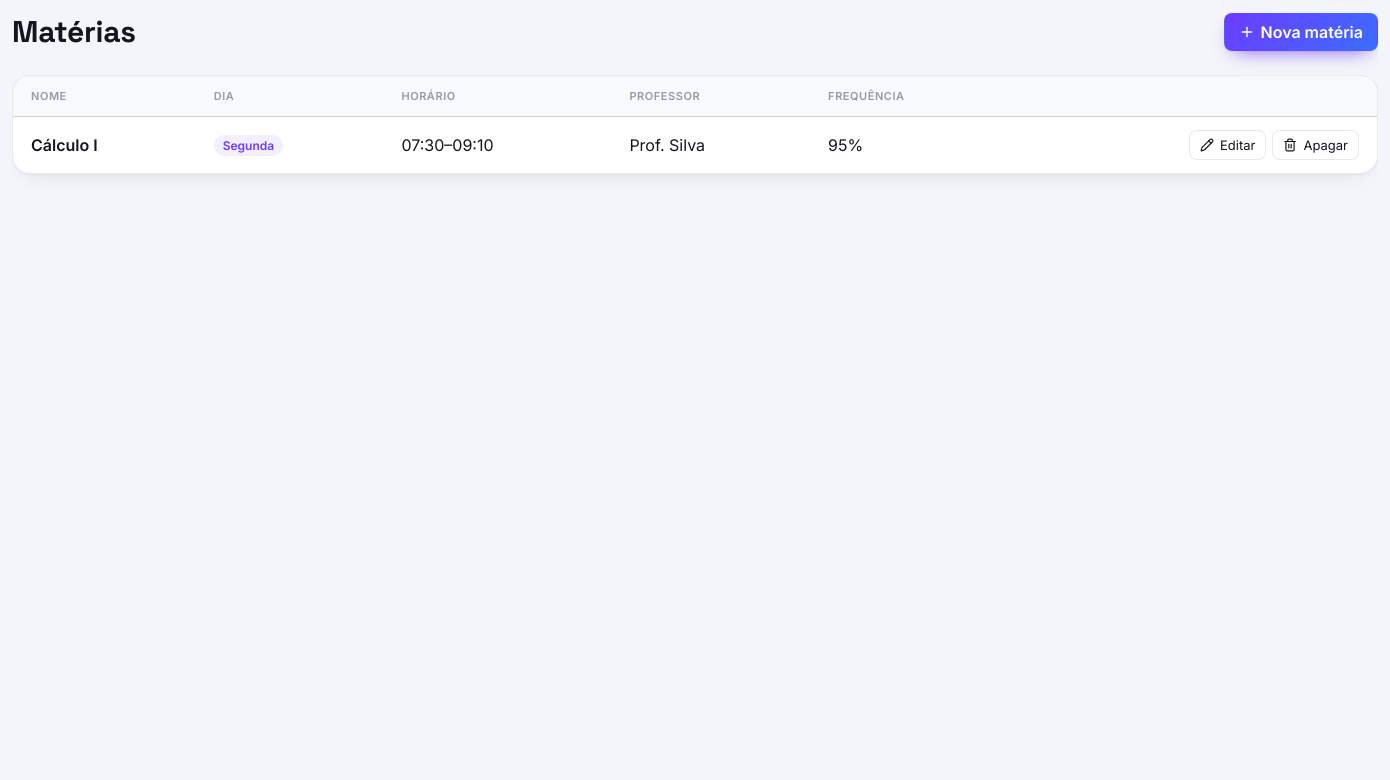
Subjects page › shows the backend schedule-conflict message inside the form on a 409
Expected: the link "Cálculo I" is shown, [31, 135, 98, 155]
Click the button "Nova matéria".
click(1301, 32)  # box [1224, 12, 1378, 50]
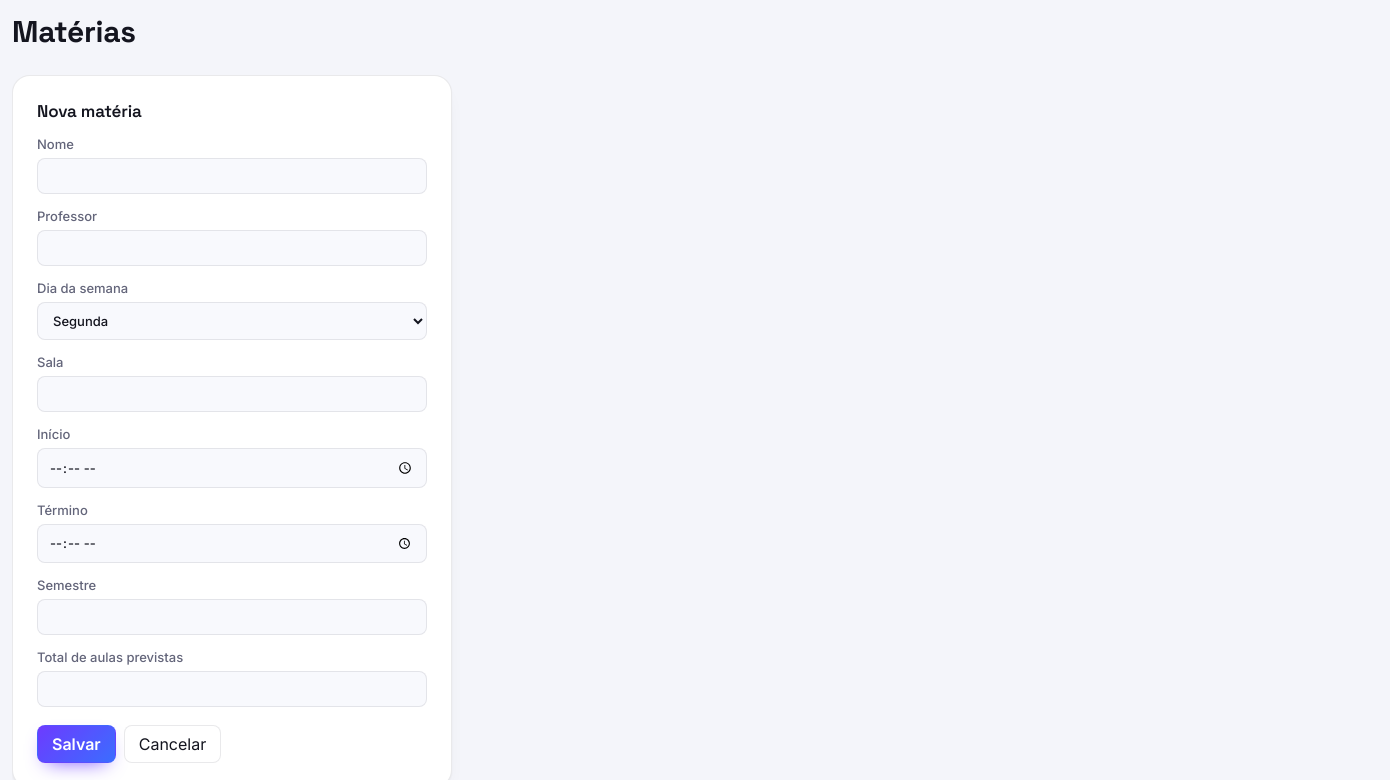
Type "Física I" into the field labelled "Nome".
click(232, 176); type("Física I")  # box [37, 158, 427, 194]
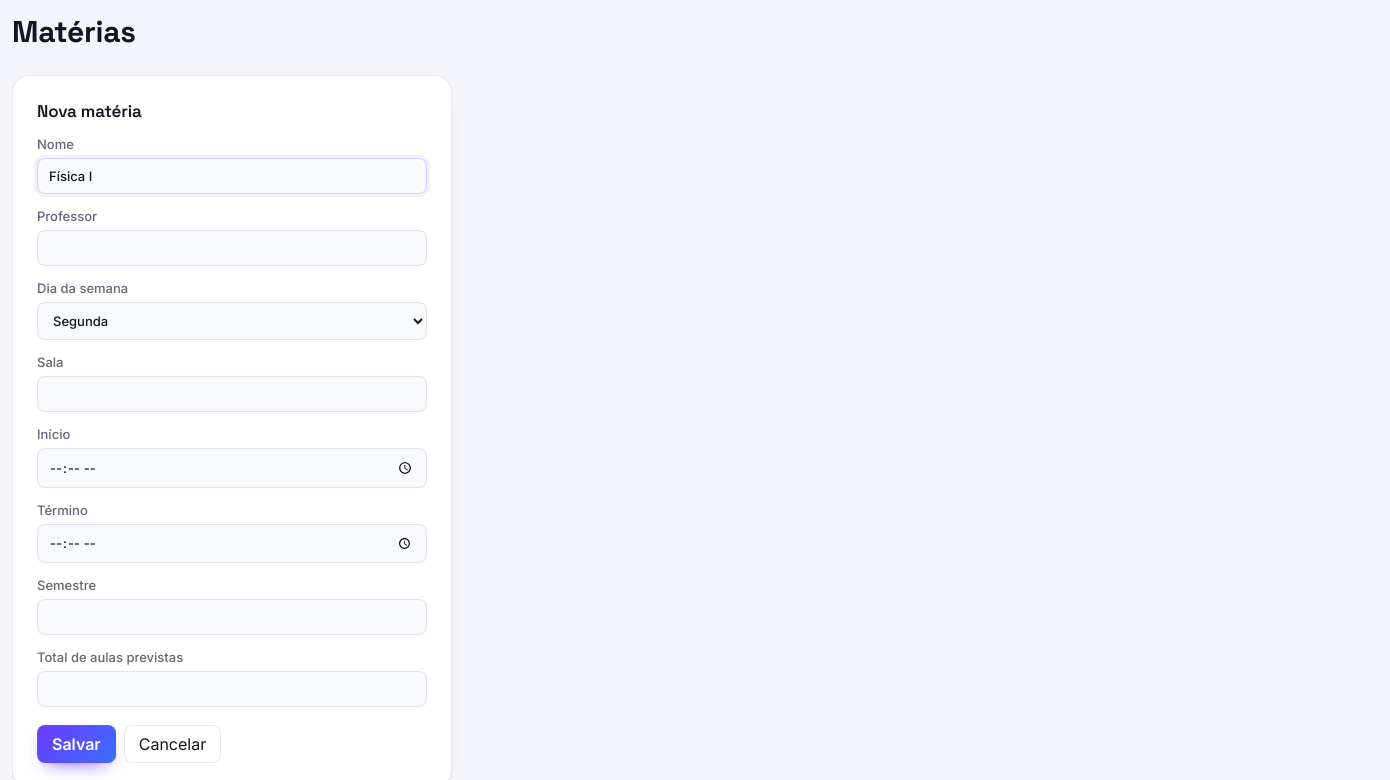
Click the button "Salvar".
click(76, 744)  # box [37, 725, 116, 763]
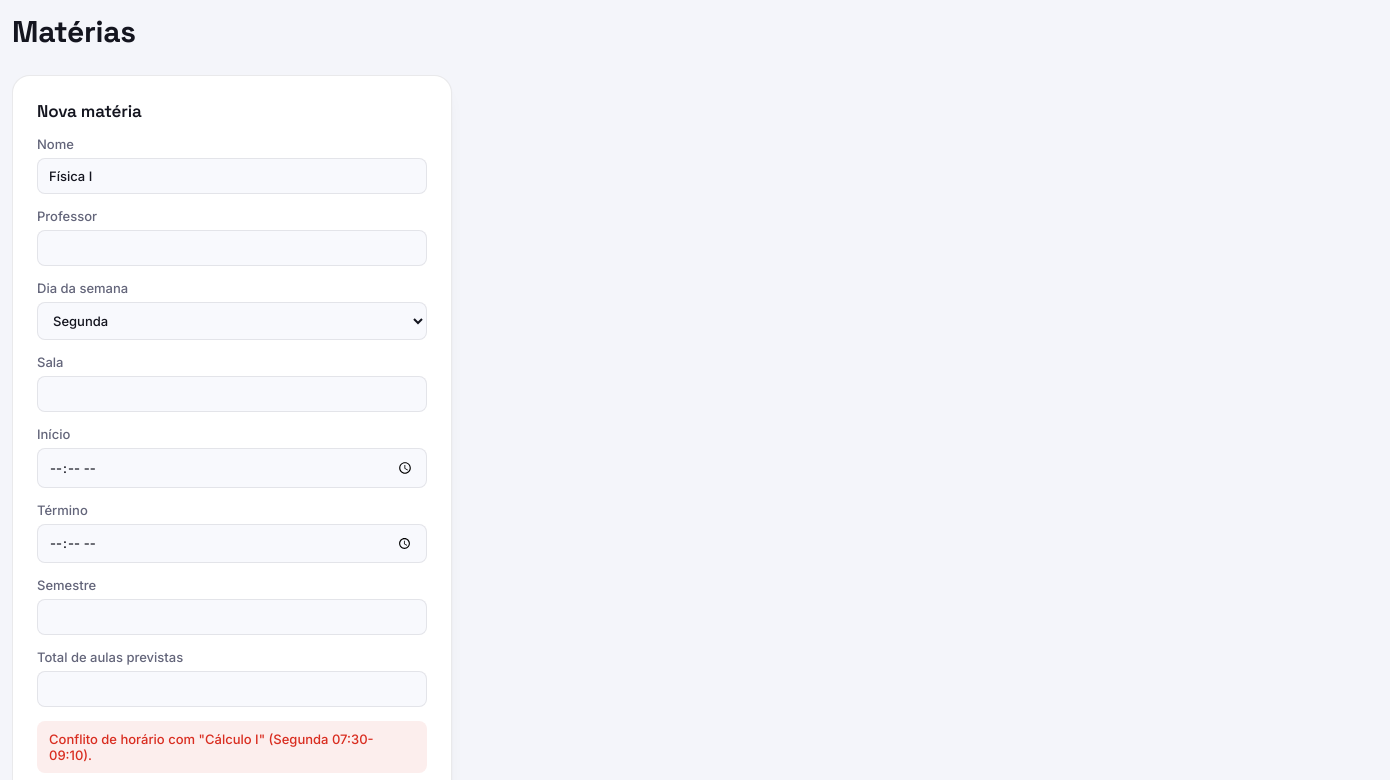
Expected: the heading "Nova matéria" is shown, [37, 100, 142, 122]
Result: the text "Conflito de horário com \"Cálculo I\" (Segunda 07:30-09:10)." is shown at [37, 721, 427, 773]
